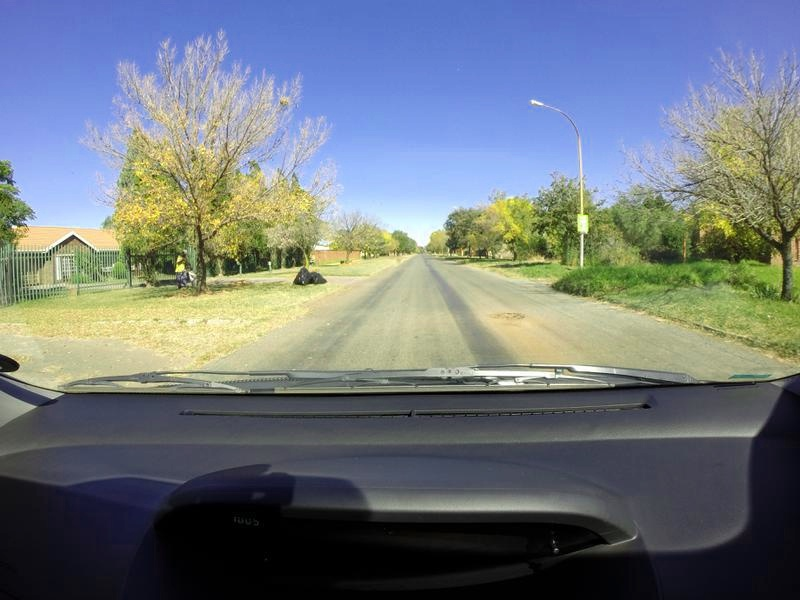pothole: (492, 312, 526, 318)
